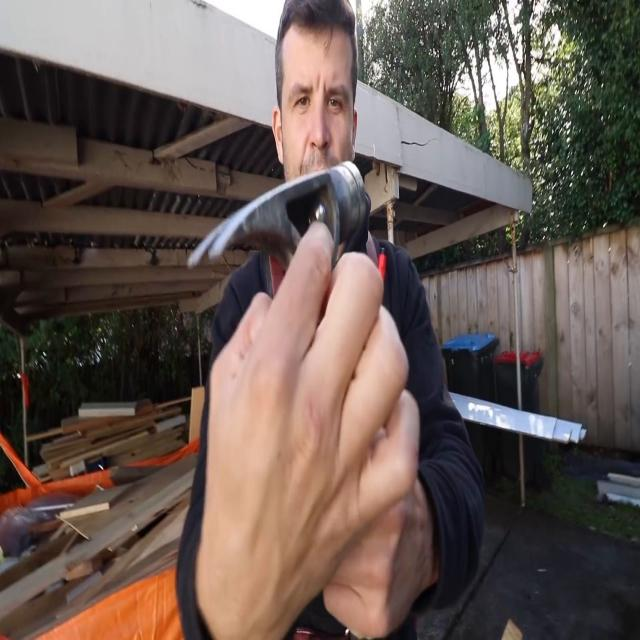hammer: (187, 164, 366, 340)
